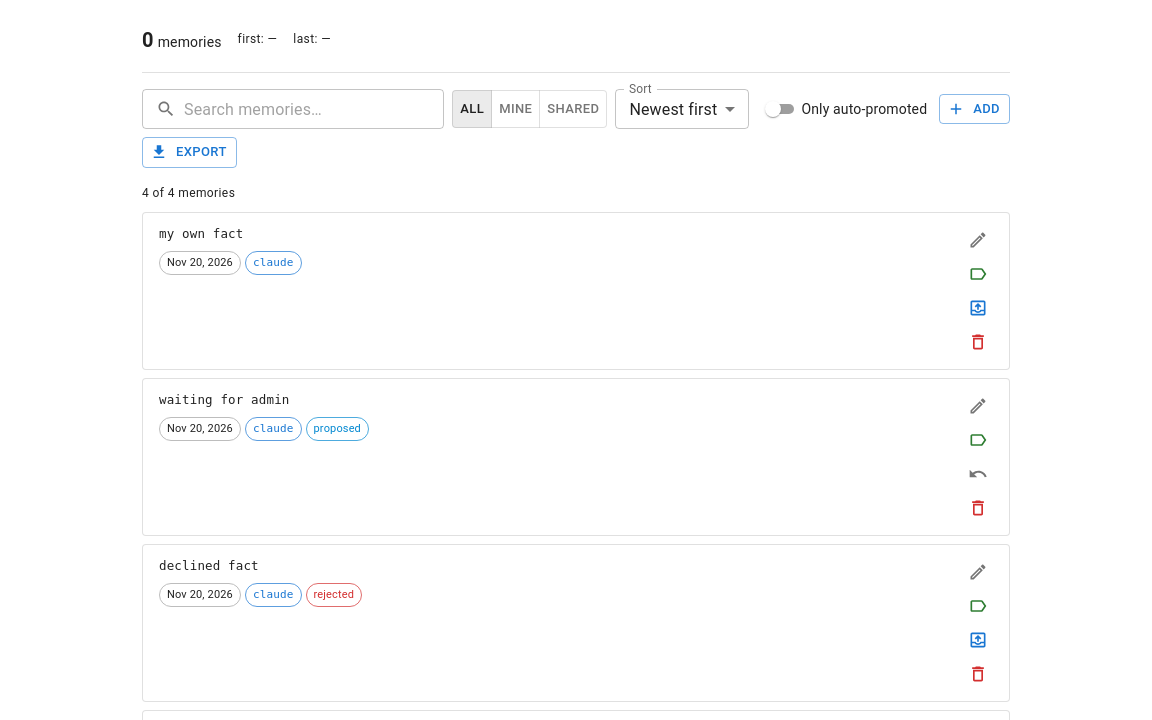
Test: owner proposals (oi38) › surfaces a 429 rate-limit as a snackbar
This screenshot has width=1152, height=720.
Expected: the text "my own fact" is shown, [159, 226, 243, 241]
Click the button named "Propose to share" at (978, 308), box [963, 293, 993, 323]
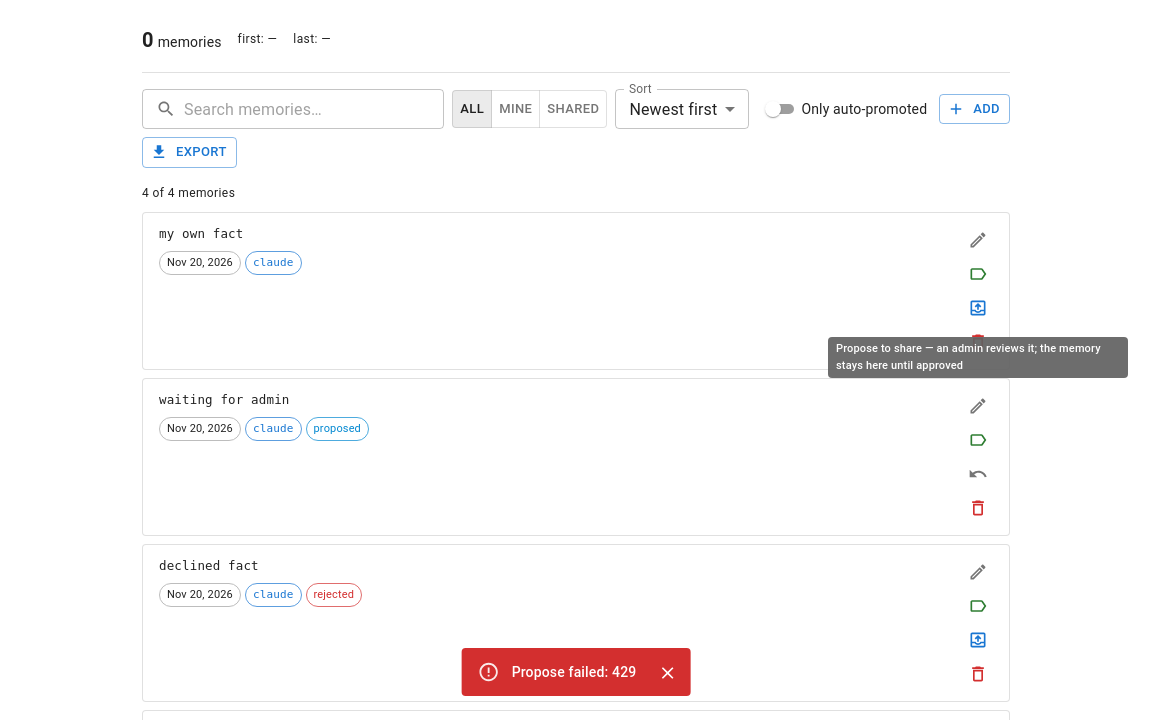
Expected: the text "Propose failed: 429" is shown, [512, 664, 636, 680]
